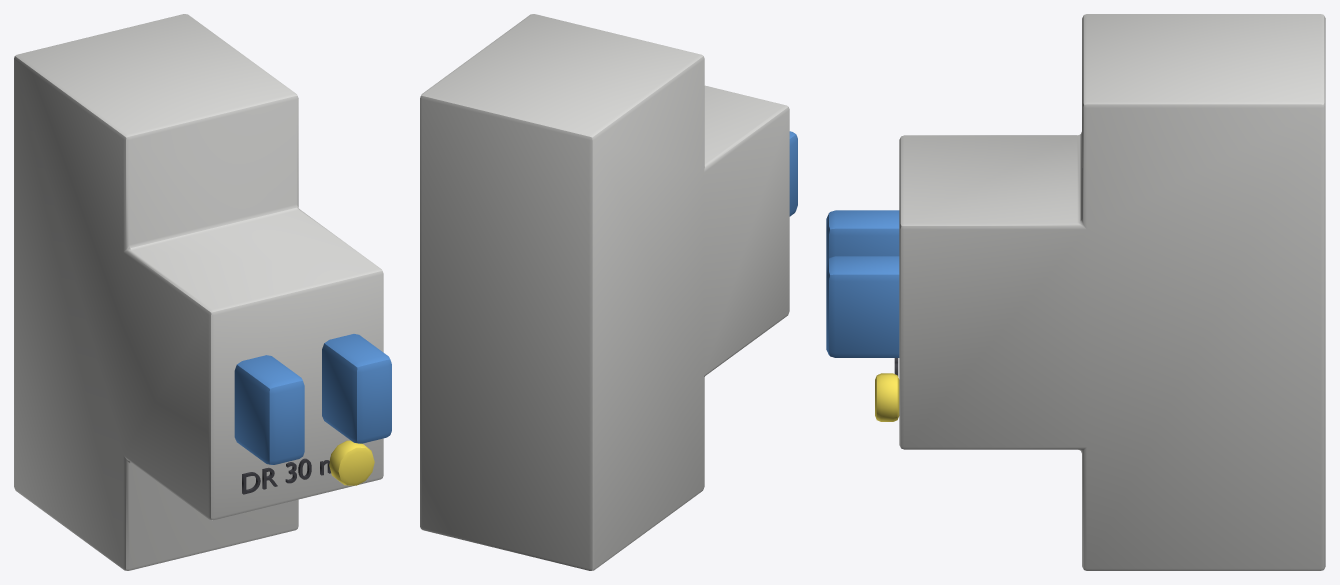
The model's file is ELE-QDR-006.glb.
The picture shows the model from 3 angles, left to right: view 1: azimuth 30°, elevation 25°; view 2: azimuth 150°, elevation 25°; view 3: azimuth 270°, elevation 25°; orthographic projection. The views are drawn at different scales.
Parts seen in each view (by area): view 1: ELE-QDR-006_corpo, ELE-QDR-006_alavanca0, ELE-QDR-006_alavanca1, ELE-QDR-006_teste, ELE-QDR-006_texto; view 2: ELE-QDR-006_corpo, ELE-QDR-006_alavanca0; view 3: ELE-QDR-006_corpo, ELE-QDR-006_alavanca1, ELE-QDR-006_alavanca0, ELE-QDR-006_teste.
Boxes of the visible parts, left/top/right/bottom form: ELE-QDR-006_corpo: left=14, top=14, right=383, bottom=570; ELE-QDR-006_alavanca0: left=234, top=355, right=304, bottom=464; ELE-QDR-006_alavanca1: left=322, top=334, right=391, bottom=443; ELE-QDR-006_teste: left=329, top=440, right=374, bottom=485; ELE-QDR-006_texto: left=242, top=458, right=330, bottom=494; ELE-QDR-006_corpo: left=420, top=14, right=789, bottom=570; ELE-QDR-006_alavanca0: left=789, top=131, right=797, bottom=216; ELE-QDR-006_corpo: left=899, top=14, right=1325, bottom=570; ELE-QDR-006_alavanca1: left=826, top=256, right=899, bottom=357; ELE-QDR-006_alavanca0: left=826, top=210, right=899, bottom=263; ELE-QDR-006_teste: left=875, top=373, right=899, bottom=421.
Bounding box in the file's own units: 0.0356 × 0.085 × 0.082.
